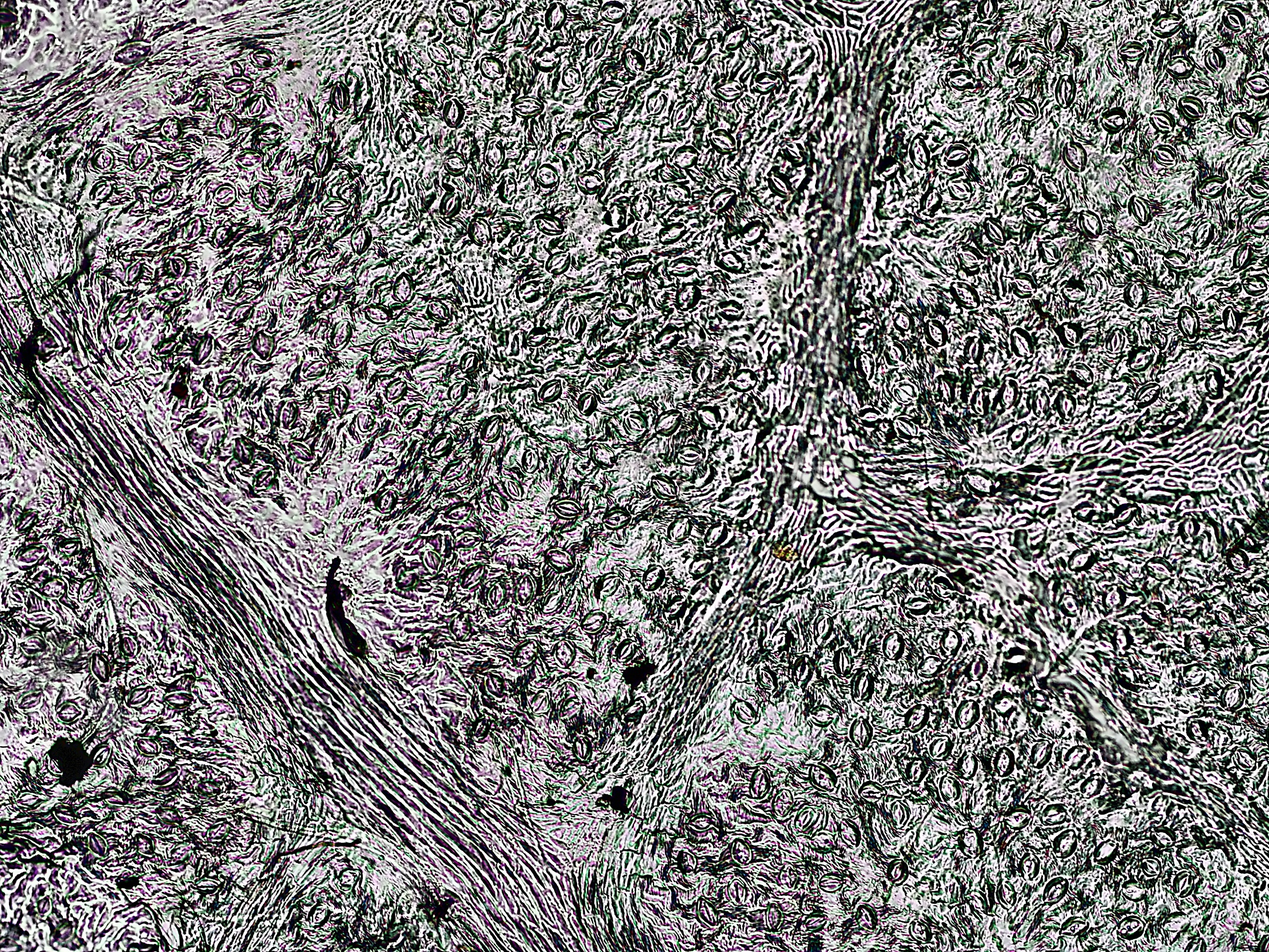stomata: (1149, 11, 1186, 39), (954, 696, 982, 731), (948, 279, 981, 308), (958, 824, 985, 859), (721, 20, 750, 52), (475, 5, 505, 35), (1063, 140, 1088, 176), (807, 762, 838, 791), (113, 40, 152, 63), (620, 255, 654, 281), (329, 318, 354, 353), (1041, 874, 1070, 904), (628, 189, 656, 220), (467, 216, 495, 247), (933, 13, 964, 41), (533, 209, 565, 236), (907, 135, 931, 170), (603, 202, 631, 232), (654, 404, 682, 434), (963, 469, 998, 493), (901, 703, 931, 731), (673, 281, 700, 312), (1177, 304, 1200, 340), (590, 441, 618, 470), (1001, 804, 1032, 830), (1045, 15, 1066, 53), (725, 368, 758, 392), (880, 629, 904, 662), (511, 640, 539, 668), (955, 244, 984, 271), (327, 385, 350, 419), (1114, 914, 1148, 937), (391, 121, 417, 151), (543, 0, 568, 31), (598, 507, 633, 529), (512, 94, 544, 118), (543, 548, 576, 571), (1131, 382, 1164, 405), (729, 834, 752, 867), (752, 67, 779, 95), (738, 218, 765, 246), (536, 377, 563, 405), (1068, 545, 1096, 572), (369, 336, 398, 362), (1058, 320, 1084, 349), (807, 702, 836, 728), (1051, 829, 1077, 858), (1094, 835, 1120, 864), (837, 819, 863, 848), (708, 187, 738, 212), (72, 577, 102, 602), (1196, 175, 1226, 200), (13, 542, 47, 564), (850, 717, 872, 751), (575, 170, 606, 194), (1128, 193, 1152, 224), (1059, 913, 1090, 937), (312, 141, 332, 178), (597, 0, 629, 23), (670, 144, 702, 167), (665, 516, 692, 543), (715, 76, 743, 102), (1078, 210, 1104, 238), (1010, 329, 1036, 357), (301, 357, 330, 382), (477, 413, 502, 442), (704, 521, 729, 550), (447, 613, 472, 642), (940, 626, 965, 655), (280, 397, 301, 431), (608, 303, 639, 326), (690, 35, 712, 67), (711, 126, 737, 153), (1221, 5, 1246, 33), (1123, 281, 1151, 306), (793, 654, 813, 689), (731, 700, 759, 725), (334, 867, 362, 892), (623, 48, 647, 77), (364, 302, 393, 326), (1166, 55, 1195, 79), (934, 375, 958, 404), (651, 476, 680, 500), (886, 856, 910, 885), (329, 82, 350, 115), (1006, 45, 1029, 75), (553, 639, 576, 669), (579, 610, 609, 633), (442, 96, 464, 127), (192, 333, 214, 364), (90, 651, 112, 682), (807, 832, 838, 854), (761, 902, 783, 933), (697, 896, 719, 927), (131, 140, 151, 174), (545, 248, 571, 274), (928, 734, 954, 760), (581, 33, 606, 60), (533, 46, 560, 71), (315, 283, 340, 310), (1177, 95, 1204, 120), (621, 411, 648, 436), (445, 0, 473, 24), (533, 163, 561, 187), (287, 439, 315, 463), (939, 143, 971, 164), (1040, 173, 1064, 201), (768, 170, 792, 198), (596, 347, 628, 368), (662, 595, 690, 619), (893, 416, 921, 440), (903, 595, 935, 616), (663, 181, 692, 204), (440, 188, 463, 217), (946, 68, 975, 91), (1226, 546, 1249, 575), (572, 734, 595, 763), (991, 692, 1020, 715), (1161, 249, 1191, 271), (925, 317, 947, 347), (1055, 391, 1077, 421), (676, 445, 706, 467), (1146, 558, 1176, 580), (853, 669, 873, 702), (1120, 878, 1150, 900), (402, 401, 423, 432), (442, 150, 468, 175), (212, 182, 237, 208), (251, 331, 276, 357), (994, 880, 1019, 906), (1102, 106, 1126, 133), (1011, 274, 1038, 298), (937, 772, 961, 799), (644, 89, 667, 117), (591, 111, 619, 134), (253, 182, 276, 210), (392, 273, 415, 301), (1004, 165, 1032, 188), (1191, 220, 1214, 248), (597, 79, 629, 99), (855, 404, 887, 424), (425, 42, 454, 64), (891, 382, 920, 404), (1067, 362, 1096, 384), (511, 12, 532, 42), (992, 746, 1013, 776), (1030, 738, 1051, 768), (1056, 74, 1075, 107), (641, 566, 666, 591), (595, 572, 620, 597), (1187, 717, 1212, 742), (90, 149, 116, 173), (88, 743, 115, 766), (856, 353, 879, 380), (484, 670, 507, 697), (1232, 748, 1259, 771), (1172, 869, 1195, 896), (857, 904, 880, 931), (666, 256, 697, 276), (272, 229, 294, 257), (971, 0, 999, 22), (1232, 241, 1254, 269), (695, 406, 723, 428), (858, 779, 886, 801), (673, 100, 694, 129), (1204, 44, 1225, 73), (1019, 847, 1038, 879), (88, 177, 112, 202), (967, 40, 997, 60), (718, 249, 743, 273), (515, 575, 535, 605), (1064, 744, 1088, 769), (462, 563, 485, 589), (778, 864, 801, 890), (550, 131, 577, 153), (182, 216, 204, 243), (1021, 203, 1048, 225), (781, 143, 808, 165), (921, 187, 943, 214), (566, 312, 588, 339), (1150, 827, 1177, 849), (774, 786, 792, 819), (659, 222, 687, 243), (485, 139, 505, 168), (133, 735, 162, 755), (1204, 368, 1224, 397), (946, 177, 971, 200), (1244, 72, 1269, 95), (1116, 242, 1139, 267), (769, 629, 792, 654), (13, 511, 39, 533), (1232, 115, 1258, 137), (1129, 348, 1155, 370), (427, 433, 453, 455), (1042, 803, 1068, 825), (164, 690, 194, 709), (275, 146, 296, 173), (39, 578, 66, 599), (516, 279, 543, 300), (718, 299, 745, 320), (931, 576, 958, 597), (687, 811, 714, 832), (217, 112, 237, 140), (322, 197, 350, 217), (876, 158, 904, 178), (985, 218, 1005, 246), (964, 336, 984, 364), (885, 339, 905, 367), (998, 380, 1018, 408), (438, 460, 466, 480), (958, 752, 978, 780), (1222, 304, 1240, 335), (428, 297, 452, 320), (1081, 773, 1104, 797), (499, 174, 518, 203), (749, 767, 768, 796), (214, 224, 236, 249), (53, 801, 78, 823), (1150, 110, 1175, 132), (891, 308, 913, 333), (917, 655, 942, 677), (1103, 583, 1125, 608), (1247, 663, 1269, 688), (385, 375, 406, 401), (1011, 100, 1037, 121), (1248, 209, 1269, 235), (1241, 275, 1267, 296), (577, 390, 598, 416), (376, 488, 397, 514), (307, 902, 328, 928), (911, 916, 932, 942), (25, 610, 57, 627), (1118, 41, 1145, 61), (554, 499, 581, 519), (1007, 422, 1027, 449), (234, 148, 262, 167), (655, 325, 678, 348), (1040, 240, 1062, 264), (526, 325, 550, 347), (541, 590, 563, 614), (1027, 687, 1051, 709), (689, 555, 714, 576), (1112, 503, 1137, 524), (257, 122, 286, 140), (971, 386, 989, 415), (447, 503, 473, 523), (127, 685, 150, 707), (1154, 144, 1177, 166), (447, 379, 469, 402), (154, 768, 182, 786), (1182, 516, 1200, 544), (890, 800, 908, 828), (677, 848, 695, 876), (480, 58, 505, 78), (151, 184, 176, 204), (1061, 282, 1086, 302), (560, 696, 580, 721), (252, 47, 278, 66), (56, 702, 82, 721), (521, 447, 539, 474), (230, 302, 253, 323), (1246, 176, 1269, 197), (353, 223, 369, 253), (14, 693, 44, 709), (170, 842, 194, 862), (1142, 603, 1166, 623), (820, 872, 844, 892), (728, 878, 745, 906), (235, 438, 254, 463), (14, 723, 39, 742), (851, 319, 876, 338), (618, 637, 637, 662), (459, 352, 481, 373), (1214, 605, 1235, 627), (88, 833, 108, 856), (1187, 633, 1207, 656), (1151, 791, 1171, 814), (967, 889, 987, 912), (454, 533, 481, 550), (906, 758, 923, 785), (224, 273, 243, 297), (103, 787, 127, 806), (530, 689, 549, 713), (1035, 389, 1050, 419), (156, 286, 184, 302), (157, 808, 183, 825), (834, 649, 851, 675), (117, 634, 138, 655), (217, 376, 237, 398), (1181, 663, 1203, 683), (191, 90, 210, 113), (694, 360, 713, 383), (194, 879, 223, 894), (656, 28, 674, 52), (17, 635, 41, 653), (504, 477, 522, 501), (472, 717, 490, 741), (797, 804, 815, 828), (969, 653, 986, 678), (253, 471, 273, 492), (357, 412, 377, 433), (207, 821, 228, 841), (624, 699, 644, 720), (1248, 628, 1269, 648), (161, 115, 180, 137), (59, 537, 81, 556), (135, 833, 154, 855), (282, 292, 298, 318), (55, 920, 73, 943), (226, 78, 253, 93), (488, 581, 503, 608), (815, 614, 830, 641), (16, 790, 41, 806), (1141, 855, 1162, 874), (1108, 330, 1126, 352), (1251, 582, 1269, 604), (154, 337, 177, 354), (1073, 503, 1096, 520), (1223, 683, 1240, 706), (1164, 914, 1187, 931), (124, 263, 143, 283), (188, 390, 207, 410), (757, 668, 776, 688), (166, 152, 193, 166), (199, 780, 221, 797), (805, 913, 827, 930), (425, 548, 441, 571), (562, 67, 580, 87), (397, 571, 417, 589), (182, 134, 203, 151), (169, 256, 185, 278), (1115, 625, 1129, 650), (490, 492, 506, 513), (1187, 936, 1208, 952), (249, 96, 264, 118), (1061, 594, 1077, 614), (38, 895, 53, 916), (1257, 316, 1269, 339), (9, 588, 22, 603)
